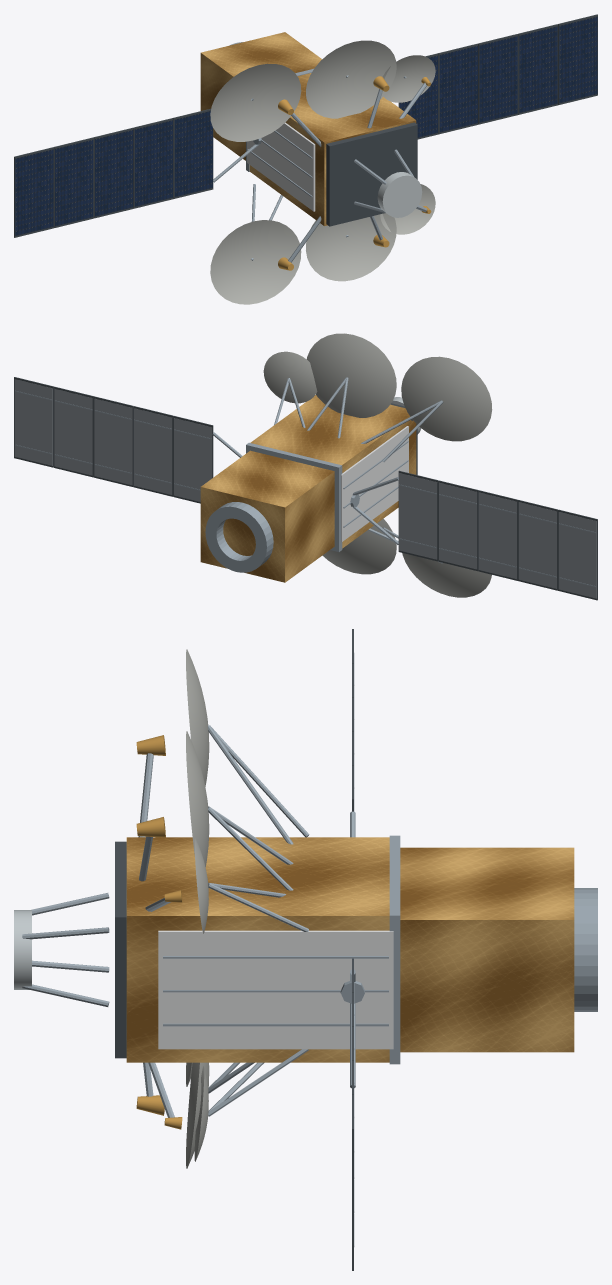
File: ref-amos-4000-64784.glb
The picture shows the model from 3 angles, top to bottom: view 1: azimuth 30°, elevation 25°; view 2: azimuth 150°, elevation 25°; view 3: azimuth 270°, elevation 25°; orthographic projection. The views are drawn at different scales.
Parts seen in each view (by area): view 1: Solar cell panel (×10), Communications reflector (×6), Earth-facing deck, Payload module, Service module, Radiator face, Solar panel frame (×7), Antenna tower platform; view 2: Rear array substrate (×10), Communications reflector (×5), Service module, Payload module, Radiator face, Launch adapter ring, Solar panel frame (×5), Module interface; view 3: Service module, Payload module, Radiator face, Communications reflector (×4), Launch adapter ring, Earth-facing deck, Module interface, Antenna tower platform, Radiator seam.
Boxes of the visible parts, x1,y1,x2,y2 form: Solar cell panel (×10): [15, 16, 597, 235]; Communications reflector (×6): [210, 40, 435, 304]; Earth-facing deck: [326, 122, 417, 226]; Payload module: [249, 73, 416, 226]; Service module: [200, 32, 322, 160]; Radiator face: [247, 122, 315, 211]; Solar panel frame (×7): [14, 14, 597, 237]; Antenna tower platform: [377, 172, 422, 217]; Rear array substrate (×10): [14, 379, 596, 598]; Communications reflector (×5): [263, 333, 492, 597]; Service module: [200, 450, 334, 582]; Payload module: [250, 395, 416, 548]; Radiator face: [341, 426, 408, 541]; Launch adapter ring: [205, 502, 273, 572]; Solar panel frame (×5): [54, 386, 478, 571]; Module interface: [246, 442, 342, 551]; Service module: [400, 847, 574, 1052]; Payload module: [126, 837, 389, 1062]; Radiator face: [158, 930, 393, 1049]; Communications reflector (×4): [186, 649, 209, 1168]; Launch adapter ring: [574, 888, 597, 1011]; Earth-facing deck: [115, 841, 126, 1058]; Module interface: [389, 835, 400, 1064]; Antenna tower platform: [14, 910, 31, 989]; Radiator seam: [163, 1023, 388, 1026].
Size of the model in its own units: 17.79 by 6.93 by 8.78.
Materials: 9 (2 with a texture image).
